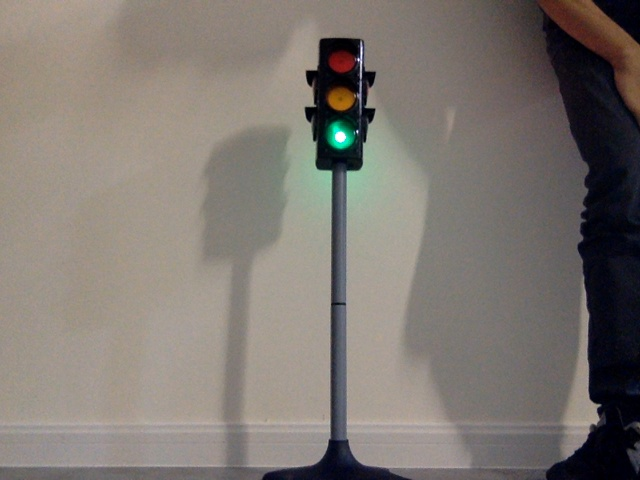green: (320, 44, 356, 157)
